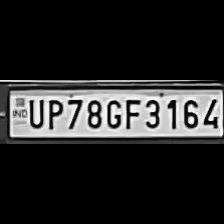1: (162, 96, 178, 130)
3: (142, 96, 162, 130)
4: (200, 96, 218, 128)
6: (179, 95, 199, 129)
7: (62, 96, 82, 130)
8: (83, 96, 103, 130)
F: (122, 96, 140, 130)
G: (104, 96, 122, 130)
P: (43, 96, 63, 130)
U: (24, 96, 44, 128)
